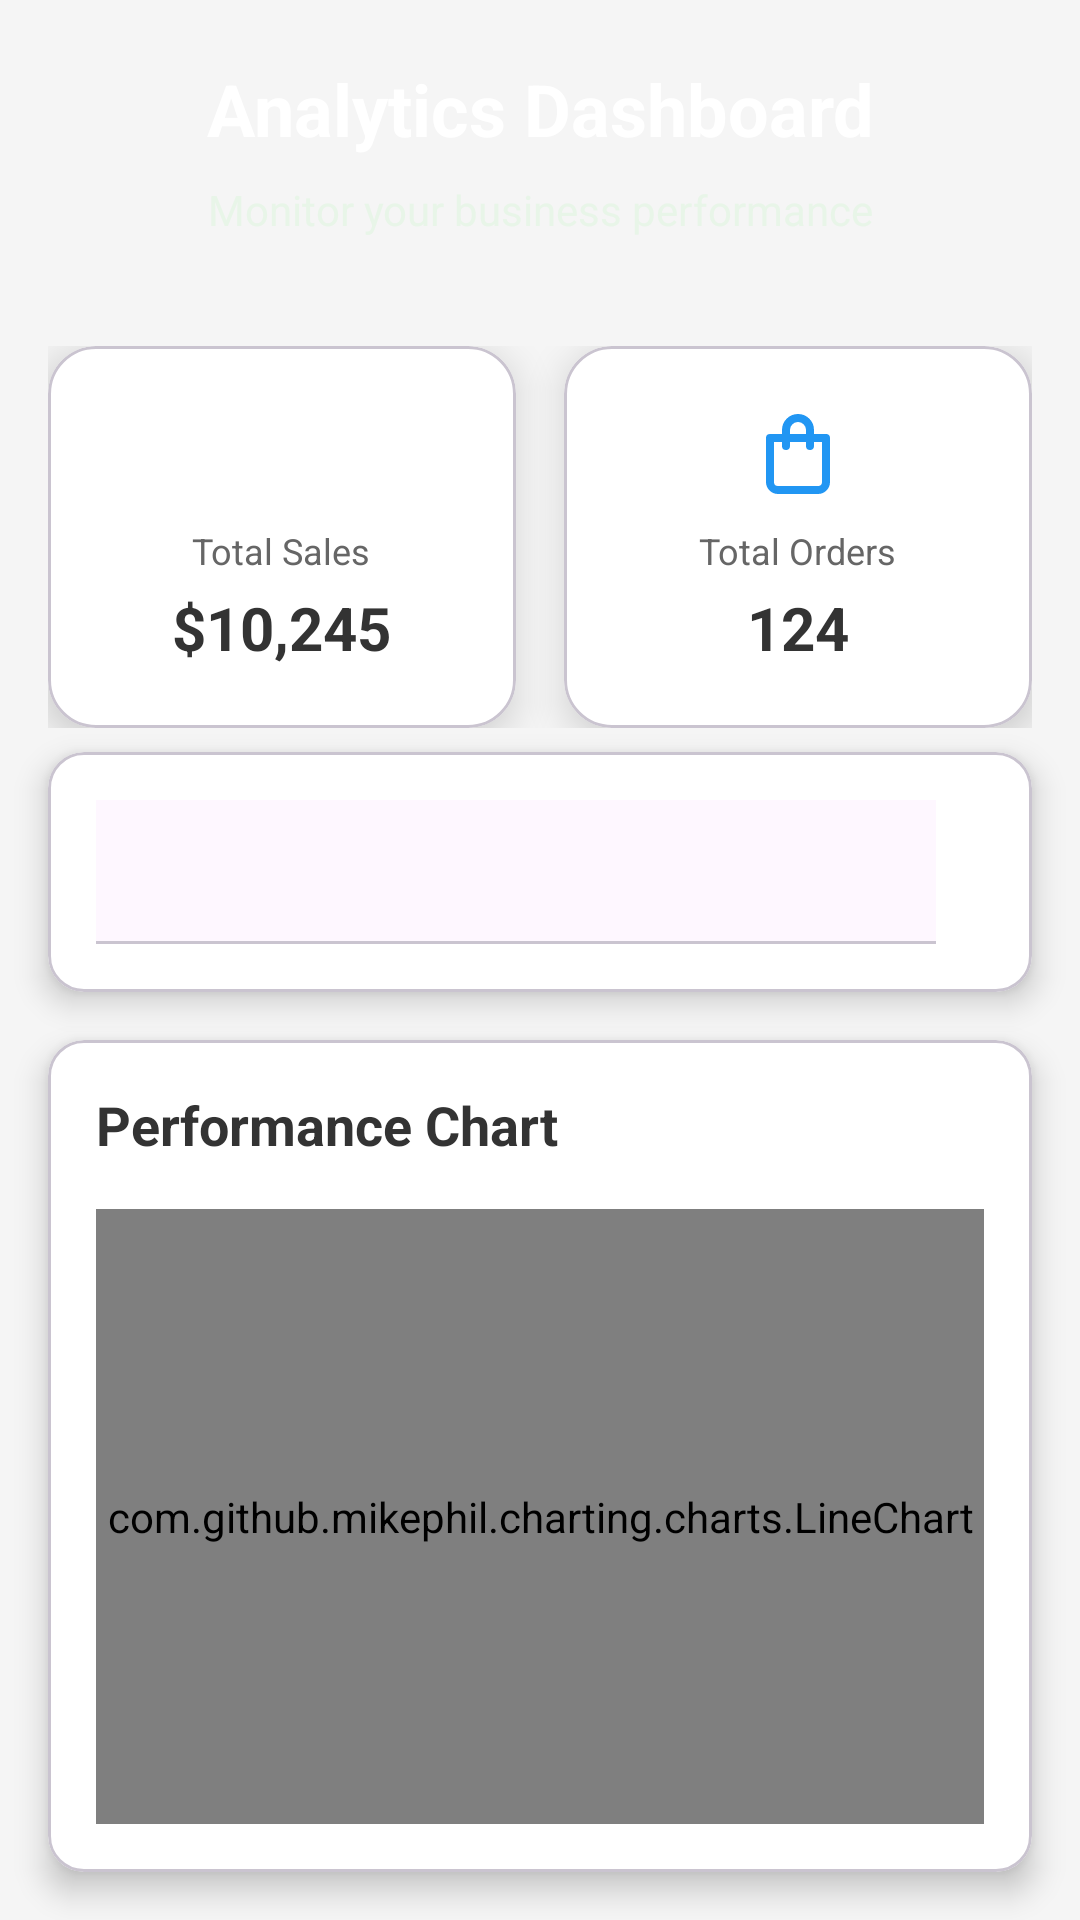

Where to tap for icons on this 1080 x 1920 app screen, as point (x, y):
shopping bag: point (798, 454)
